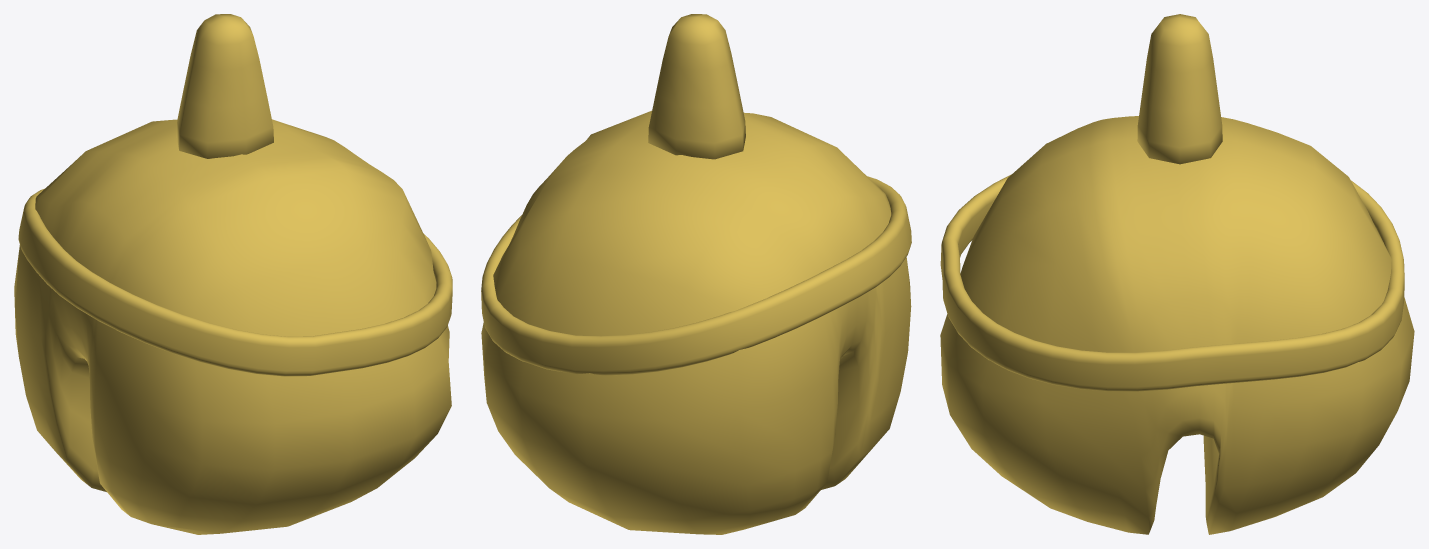
File: Cloche 1.fbx
The picture shows the model from 3 angles, left to right: view 1: azimuth 30°, elevation 25°; view 2: azimuth 150°, elevation 25°; view 3: azimuth 270°, elevation 25°; orthographic projection.
Visible parts, largest first — view 1: Cloche; view 2: Cloche; view 3: Cloche.
Boxes of the visible parts, box(x1,y1,x2,y2) form: Cloche: box(14, 14, 452, 534); Cloche: box(481, 14, 911, 534); Cloche: box(940, 14, 1414, 534).
Bounding box in the file's own units: 7.41 × 9.69 × 8.43.
